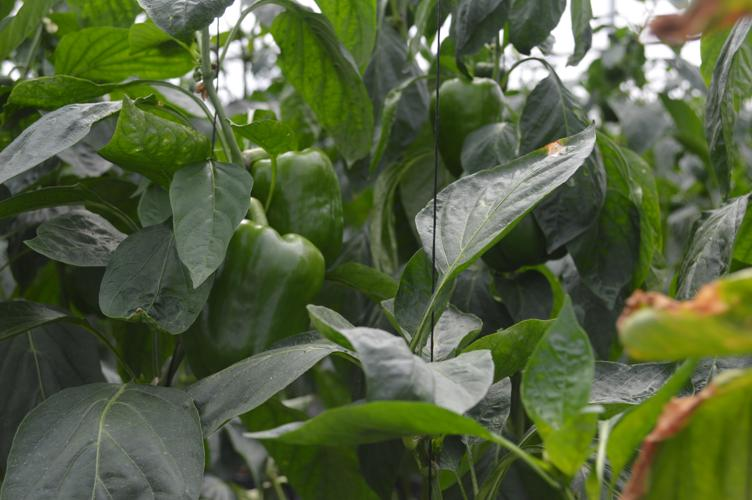BellPepper: (180, 222, 331, 361), (251, 147, 346, 257), (418, 76, 507, 181), (481, 214, 551, 274)
